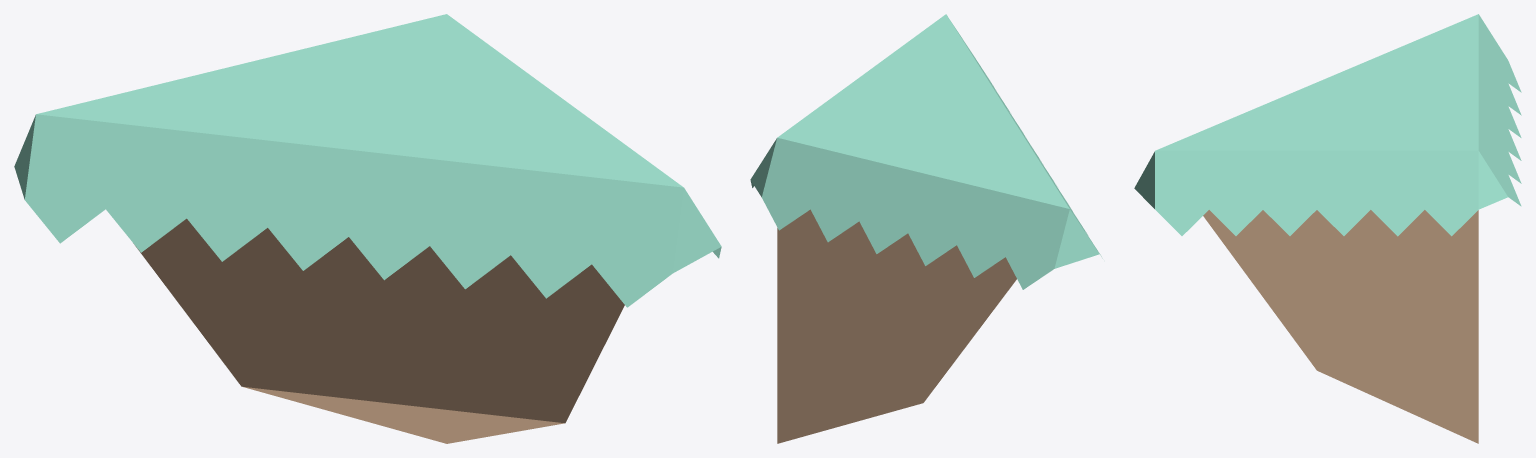
3 renders of one model, left to right at view 1: azimuth 30°, elevation 25°; view 2: azimuth 150°, elevation 25°; view 3: azimuth 270°, elevation 25°, orthographic. The views are drawn at different scales.
Visible parts, largest first — view 1: blockCliffCorner; view 2: blockCliffCorner; view 3: blockCliffCorner.
Boxes of the visible parts, x1,y1,x2,y2 form: blockCliffCorner: [14, 14, 721, 443]; blockCliffCorner: [750, 14, 1102, 443]; blockCliffCorner: [1134, 14, 1521, 443].
Size of the model in its own units: 1.2 by 1 by 1.2.
